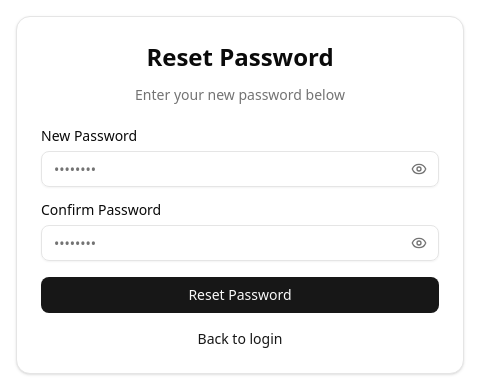
Test: ResetPasswordPage › password toggle shows/hides new password
Click the 1st button named "Show password". click: (419, 169)
box: [411, 161, 427, 177]
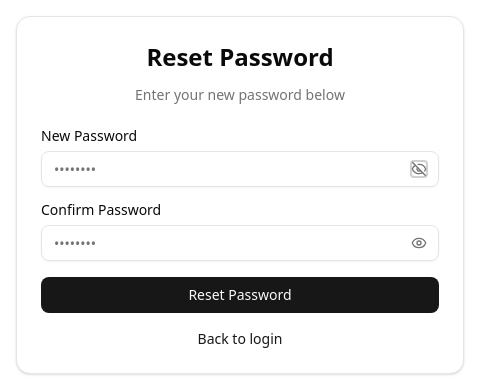
Expected: the button named "Hide password" is shown, [411, 161, 427, 177]
